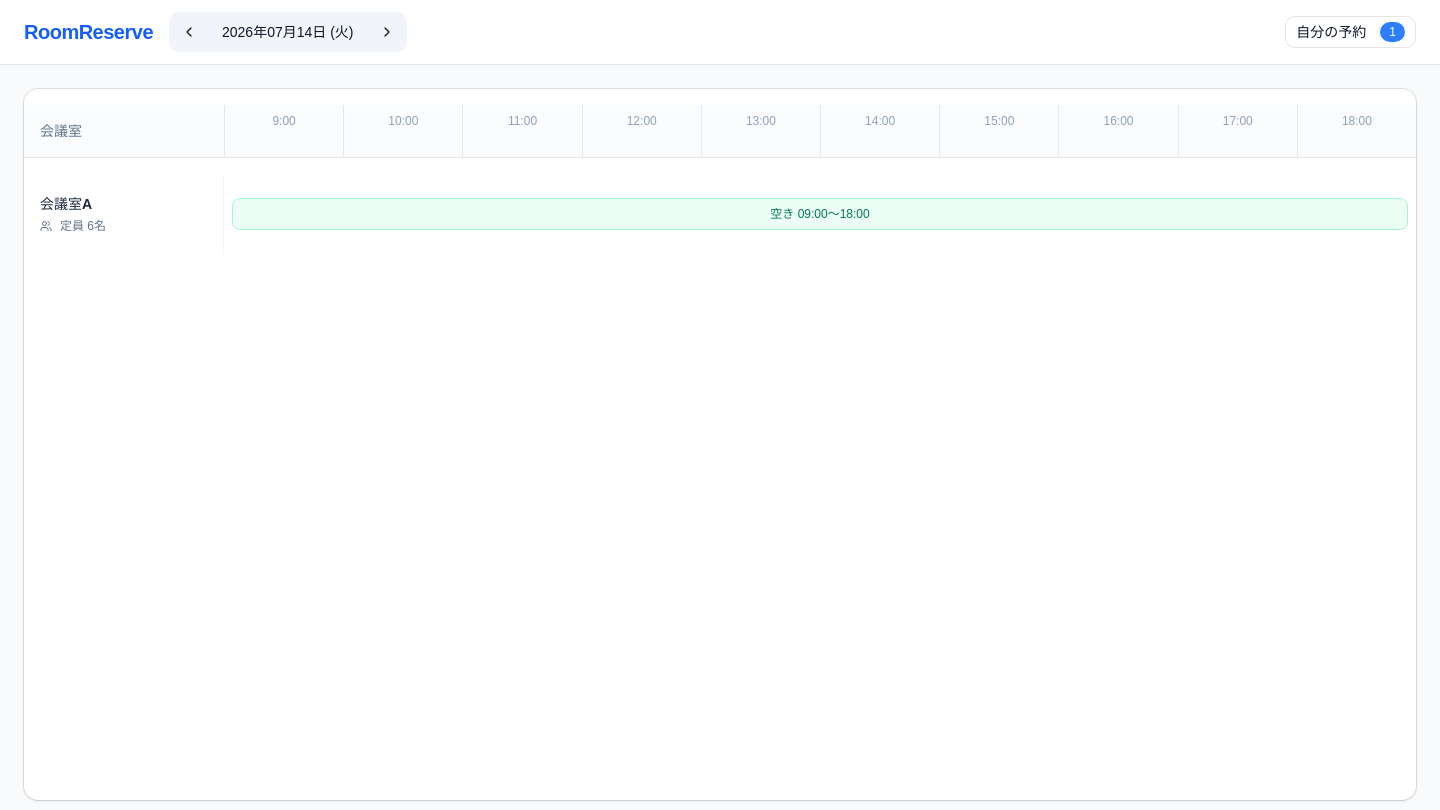
Test: 予約フロー(RFE-B) › 予約確定が例外で失敗した場合、汎用の失敗表示が出てダイアログは開いたままになる
The width and height of the screenshot is (1440, 810).
Step 1. Click the button "空き 09:00〜18:00" → (820, 214), box [232,198,1408,230]
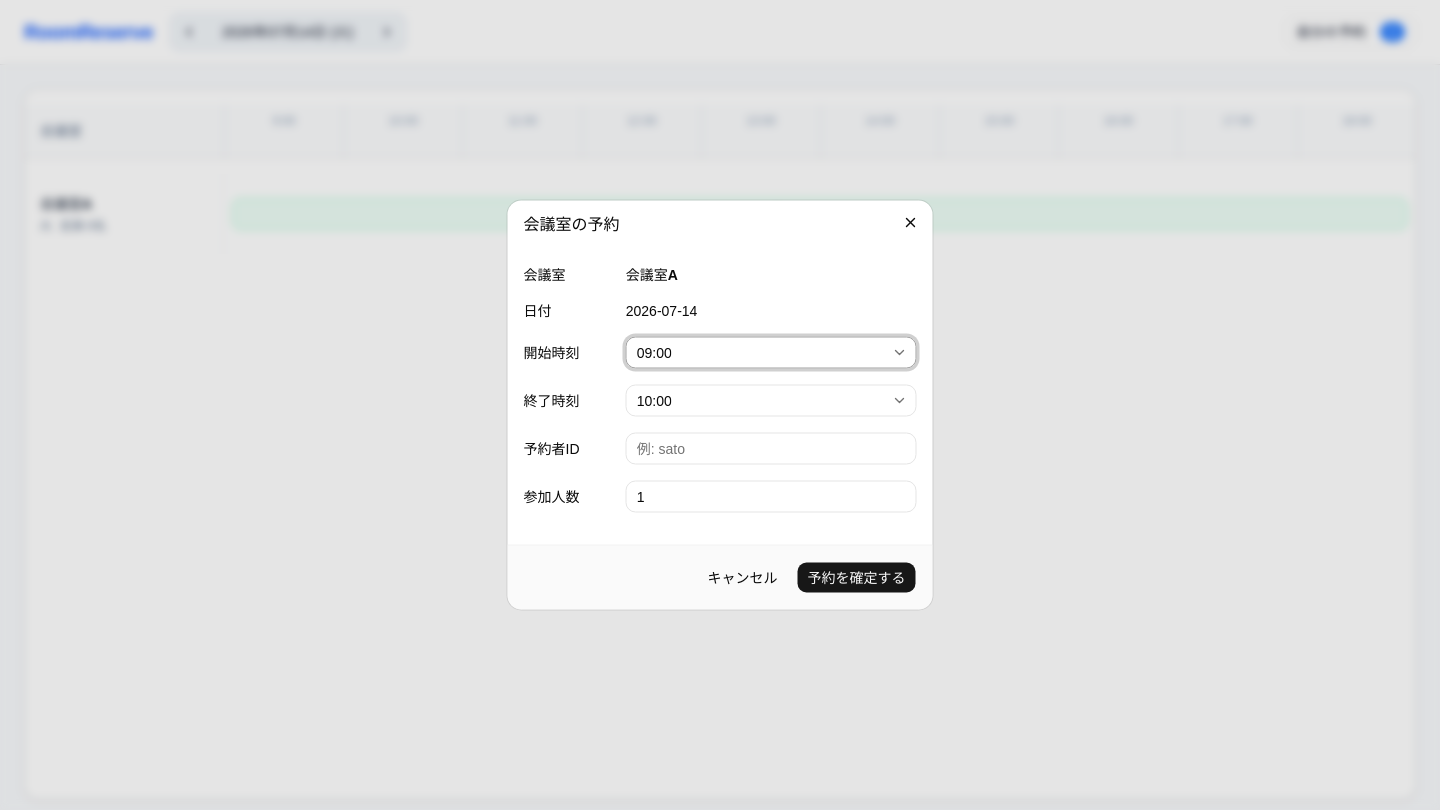
Step 2. Type "suzuki" into the field labelled "予約者ID" → (771, 448), box [626,432,917,464]
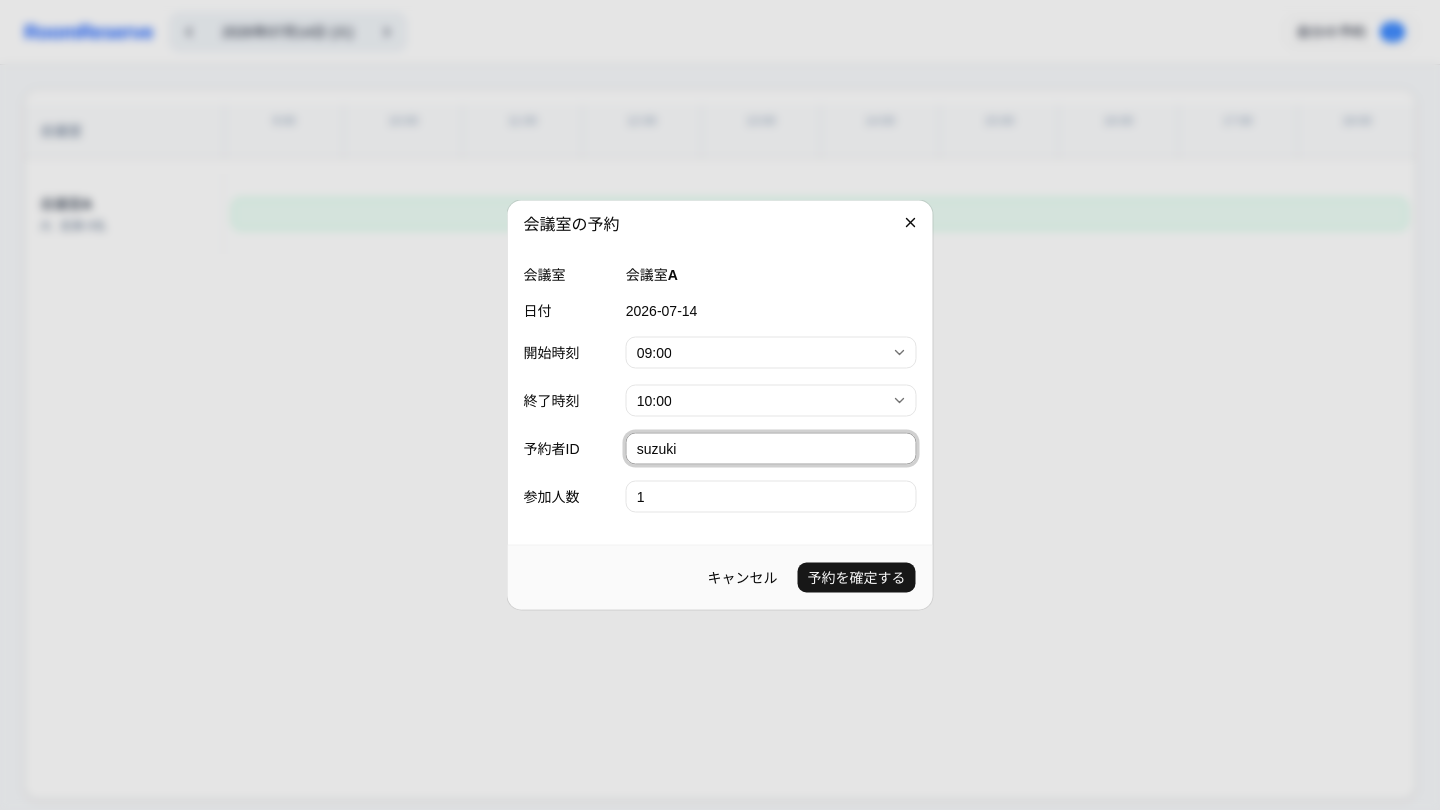
Step 3. Click the button "予約を確定する" → (856, 578), box [796,562,916,594]
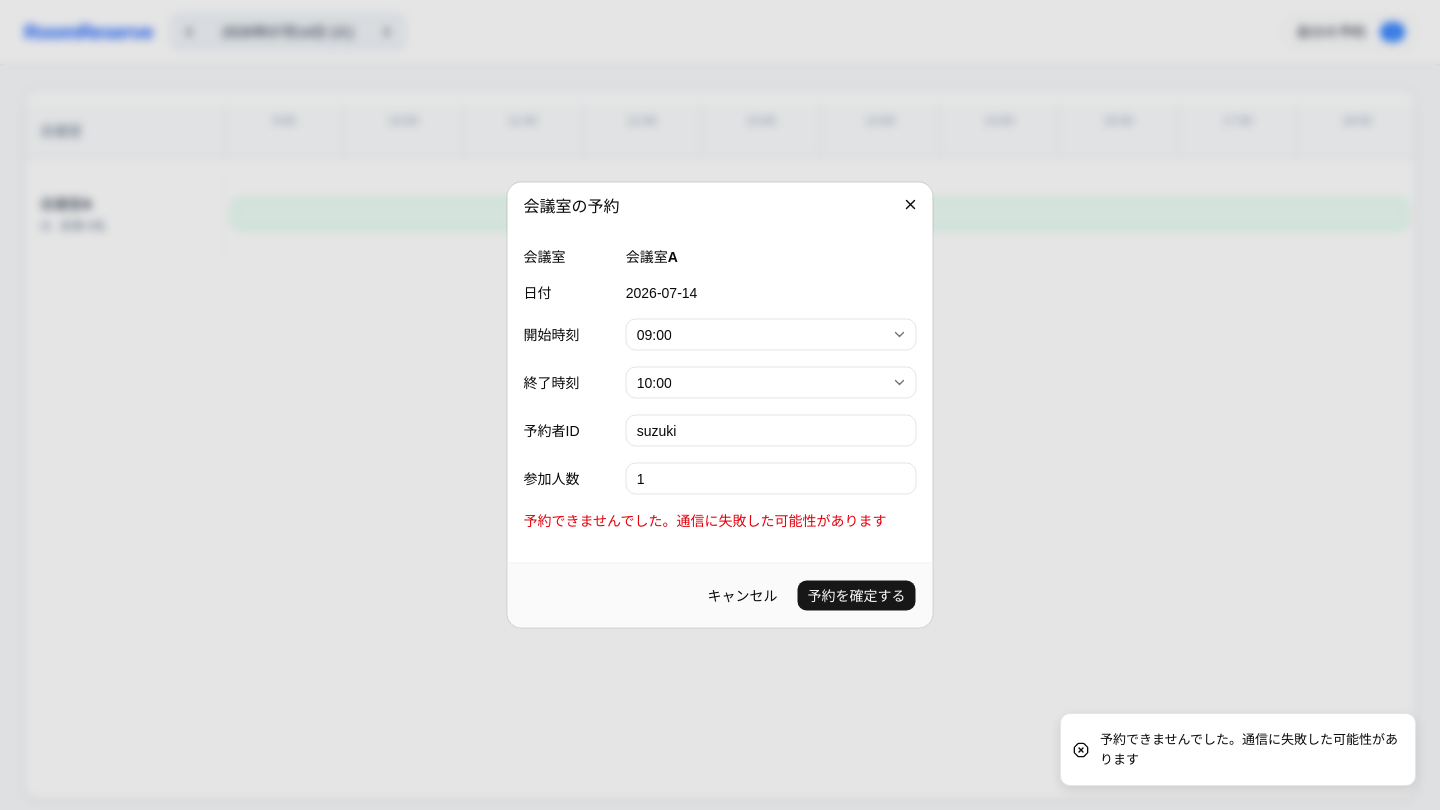
expect the dialog is shown: met, box [508,182,932,628]
expect the button "予約を確定する" is enabled: met, box [796,580,916,612]
expect the message shows "予約できませんでした": met, box [524,512,886,528]
